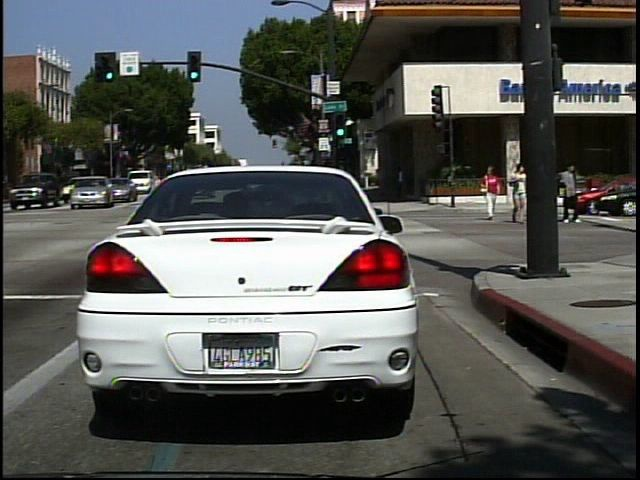person: (555, 160, 583, 229), (480, 164, 506, 226), (532, 160, 553, 227), (508, 161, 529, 225), (558, 161, 584, 212)
